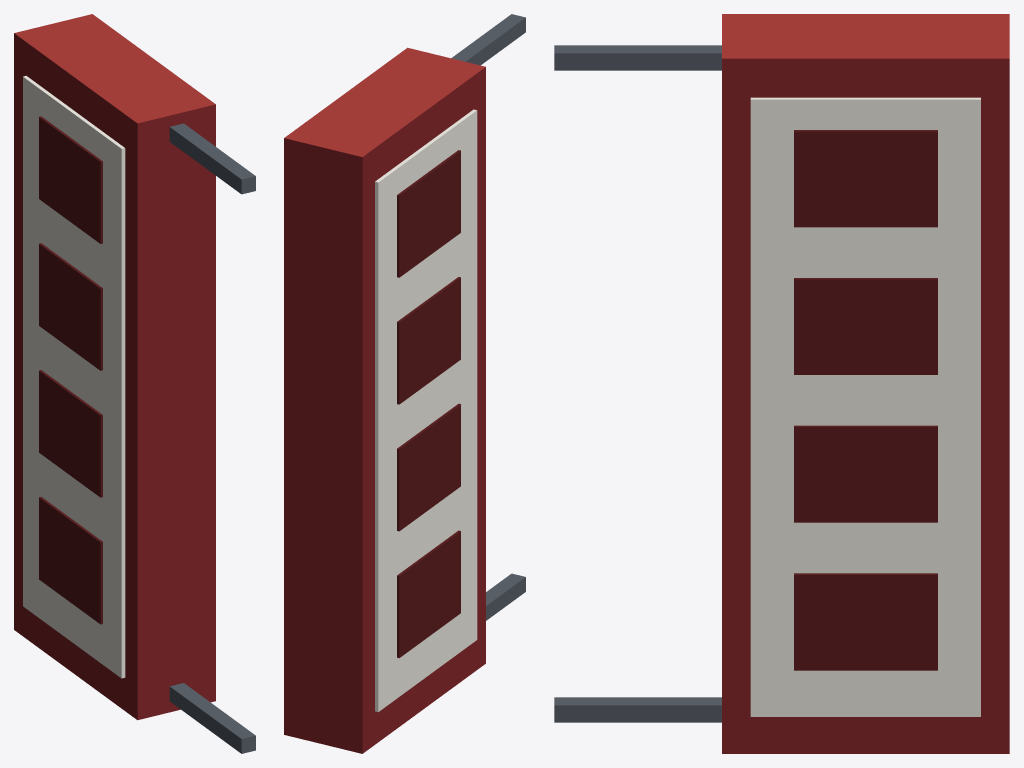
File: SignBlade.fbx
3 views of the same model, side by side, from view 1: azimuth 30°, elevation 25°; view 2: azimuth 150°, elevation 25°; view 3: azimuth 270°, elevation 25° (orthographic). The views are drawn at different scales.
Parts seen in each view (by area): view 1: Frame.002, Face, Letters, Bracket; view 2: Frame.002, Face, Letters, Bracket; view 3: Face, Frame.002, Letters, Bracket.
Part boxes in pixels (x1,y1,x2,y2): Frame.002: [14, 14, 215, 720]; Face: [23, 75, 125, 678]; Letters: [39, 116, 102, 624]; Bracket: [169, 123, 255, 753]; Frame.002: [284, 47, 485, 753]; Face: [375, 109, 477, 712]; Letters: [397, 150, 460, 658]; Bracket: [451, 14, 525, 620]; Face: [750, 97, 980, 716]; Frame.002: [722, 14, 1009, 753]; Letters: [794, 130, 937, 670]; Bracket: [554, 45, 721, 722].
Bounding box in the file's own units: 0.254 × 1.6 × 0.95.
